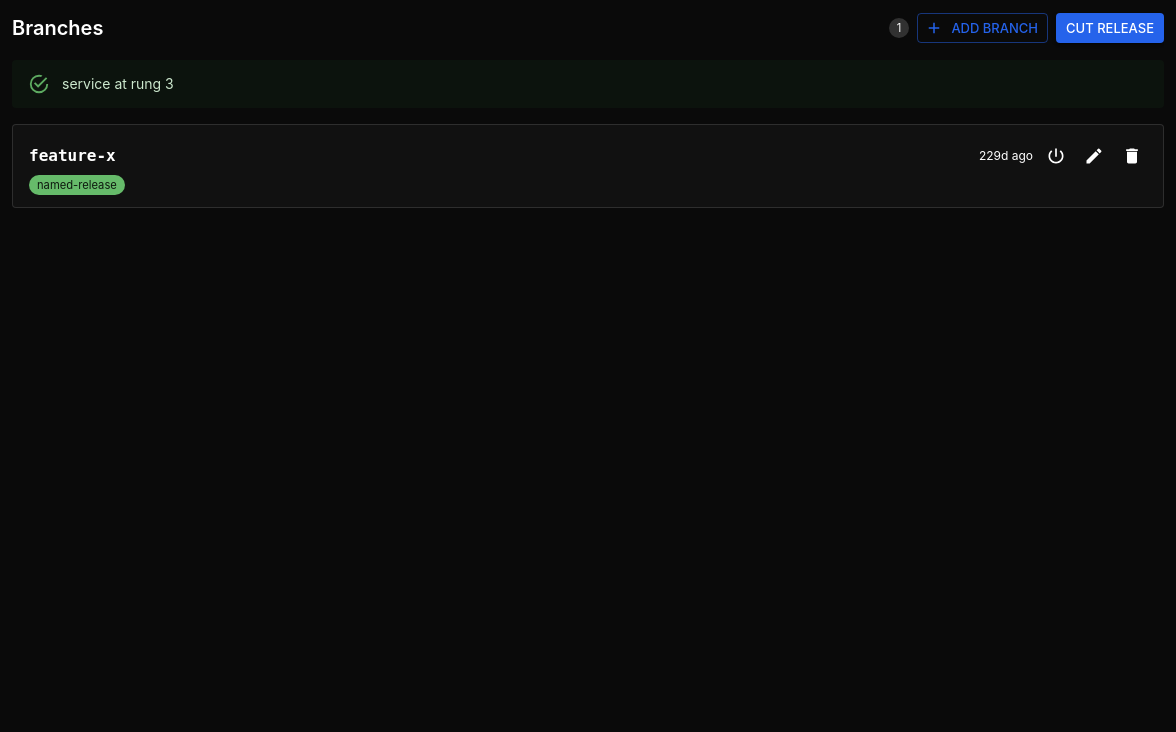
Test: BranchCard delete (TK-1680) › 409 with blocking env names shows toast with Cannot delete message
The image size is (1176, 732).
Click the button with test id "branch-delete-feature-x".
click(1132, 156)  # box left=1117, top=141, right=1147, bottom=171
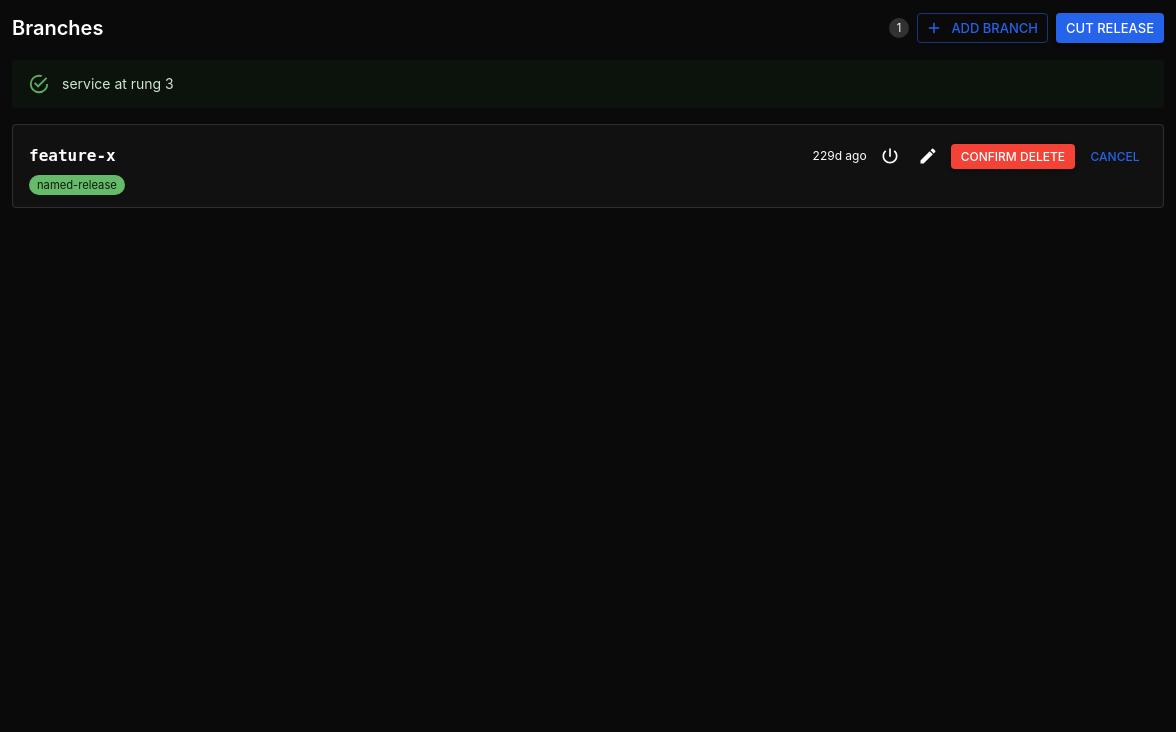
Click the button with test id "branch-confirm-delete-feature-x".
click(1013, 156)  # box left=951, top=144, right=1075, bottom=168
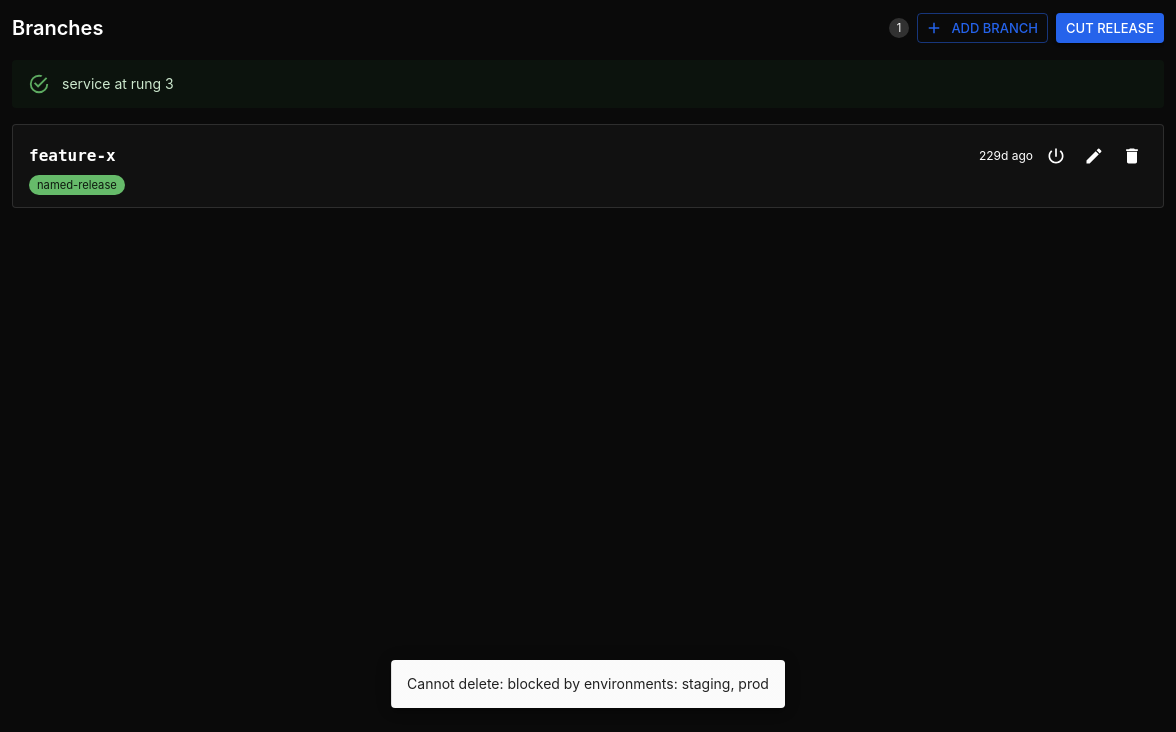
expect the text "Cannot delete: blocked by environments: staging, prod" is shown: met, box left=407, top=675, right=769, bottom=692
